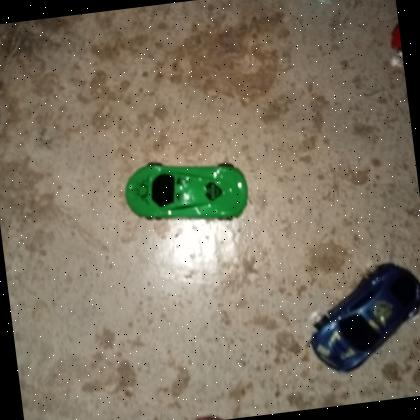Car: (298, 255, 420, 378), (122, 150, 254, 236)
